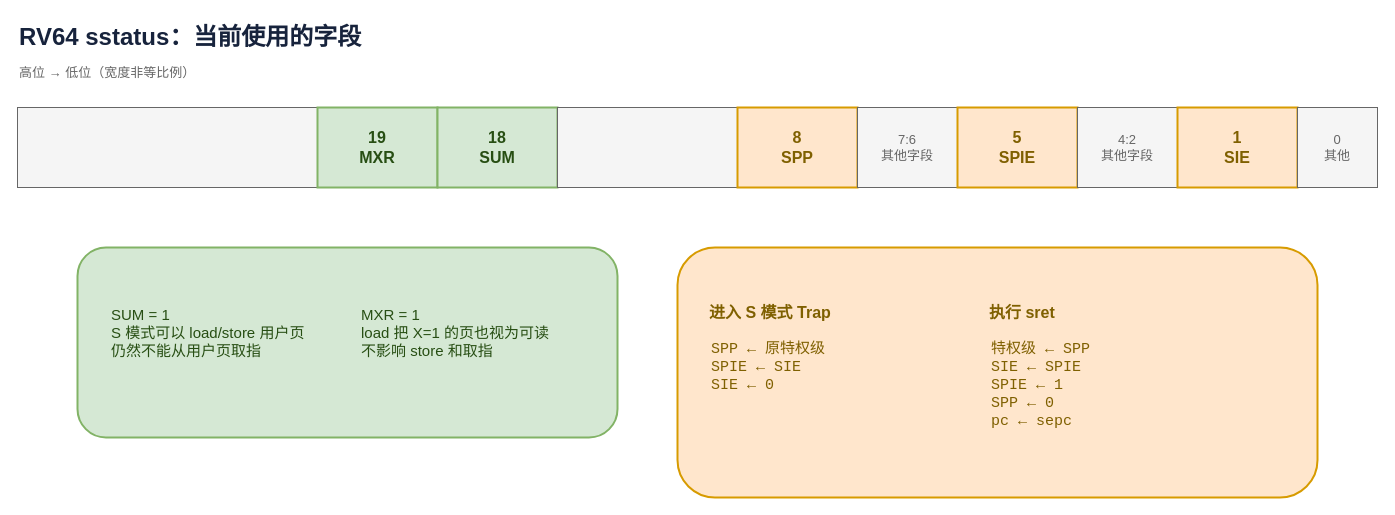
Image size: 1395x515. Some labels were removed from this diagram. Here are the shapes that lost their labels. From the top down, the box of each, then its label:
(16, 106, 318, 188): 63:20 其他字段
(556, 106, 738, 188): 17:9 其他字段
(76, 246, 618, 438): 内存权限
(676, 246, 1318, 498): Trap 状态
